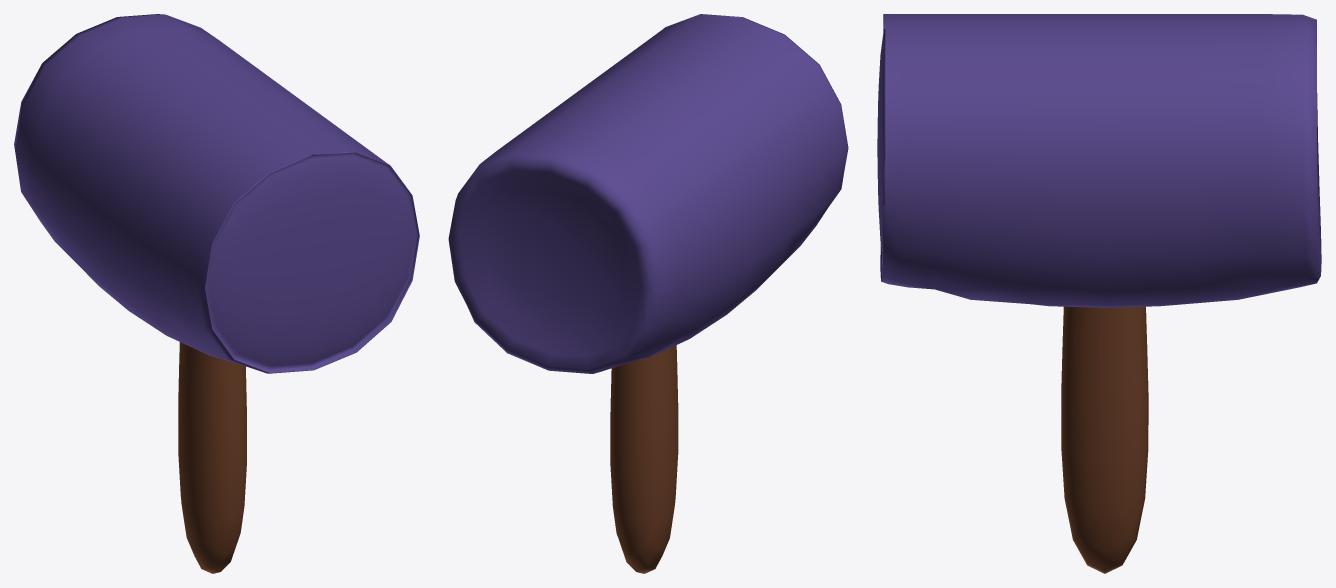
Rendered from marteau.fbx.
3 renders of one model, left to right at view 1: azimuth 30°, elevation 25°; view 2: azimuth 150°, elevation 25°; view 3: azimuth 270°, elevation 25°, orthographic. The views are drawn at different scales.
Parts seen in each view (by area): view 1: Marteau; view 2: Marteau; view 3: Marteau.
Boxes of the visible parts, x1,y1,x2,y2 form: Marteau: (14,14,419,573); Marteau: (448,14,848,573); Marteau: (877,14,1321,573).
Size of the model in its own units: 111 by 237 by 175.
